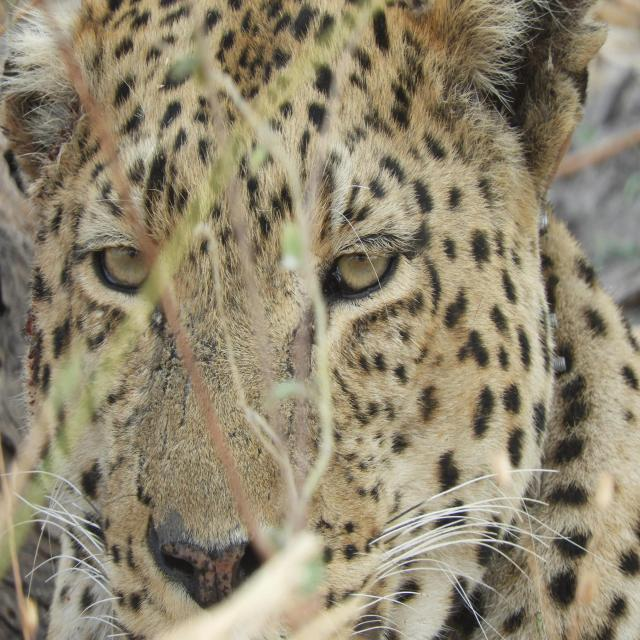Leopard: (0, 0, 637, 639)
